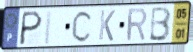B: (148, 5, 173, 43)
C: (70, 9, 94, 44)
I: (42, 9, 54, 46)
K: (97, 9, 117, 43)
P: (17, 9, 44, 47)
R: (126, 6, 148, 43)
